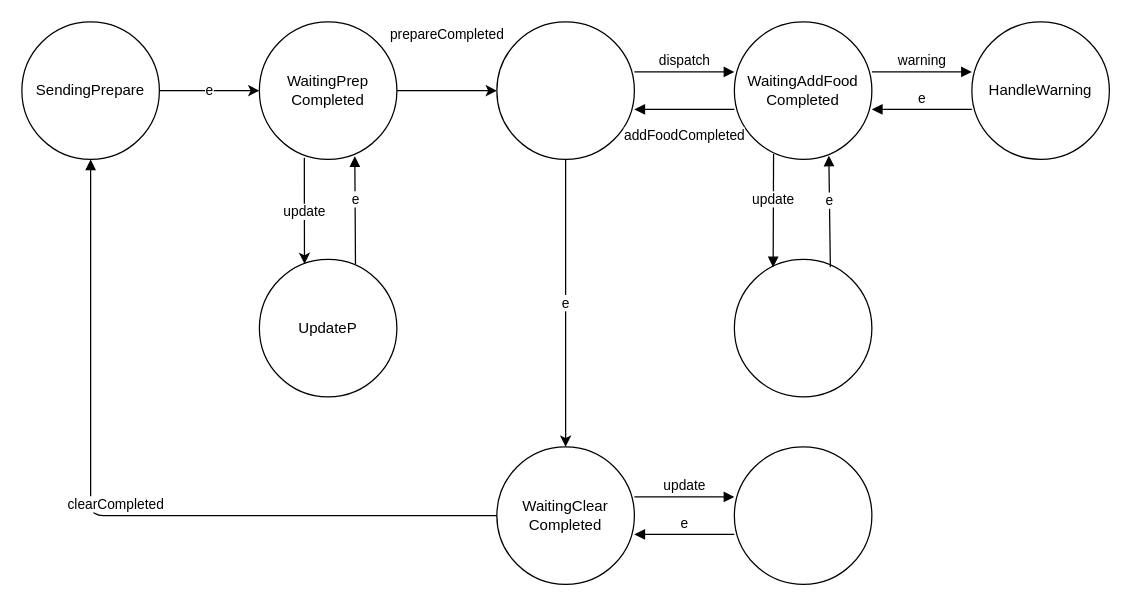
Some shapes in this 1131 by 606 pixel diagram are drawn without their labels. Each missing label, with the centre of its shape:
SendingAC: the point at 565,90
UpdateA: the point at 802,327
UpdateC: the point at 802,515
